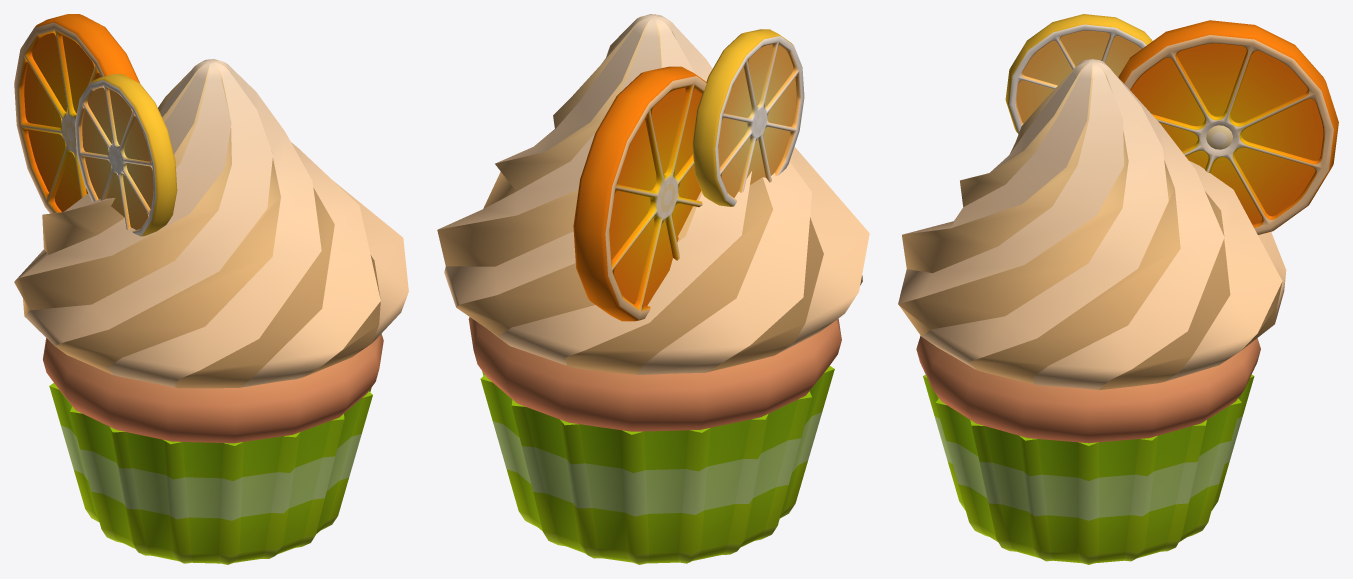
File: Cupcake_Lemon_V2_00.fbx
3 views of the same model, side by side, from view 1: azimuth 30°, elevation 25°; view 2: azimuth 150°, elevation 25°; view 3: azimuth 270°, elevation 25° (orthographic). The views are drawn at different scales.
Parts seen in each view (by area): view 1: Cupcake_Lemon_V2_00; view 2: Cupcake_Lemon_V2_00; view 3: Cupcake_Lemon_V2_00.
Part boxes in pixels (x1,y1,x2,y2): Cupcake_Lemon_V2_00: (14, 14, 408, 564); Cupcake_Lemon_V2_00: (437, 14, 869, 564); Cupcake_Lemon_V2_00: (898, 14, 1338, 564).
Bounding box in the file's own units: 36.59 × 48.52 × 41.56.
